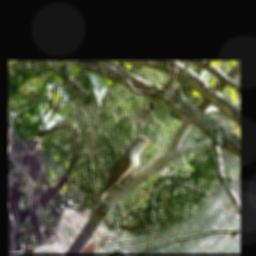Cuckoo: (89, 134, 153, 217)
